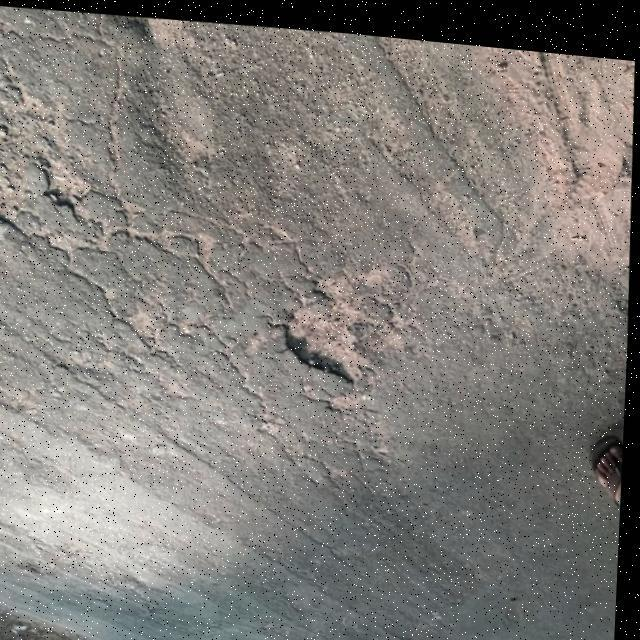pothole: (282, 266, 381, 384)
